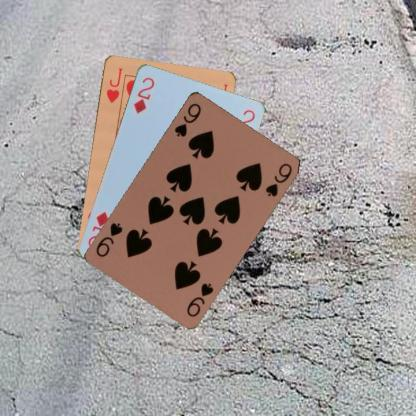2d: (130, 74, 156, 115)
9s: (184, 280, 215, 319), (172, 100, 202, 138)
Jh: (103, 65, 124, 104)
